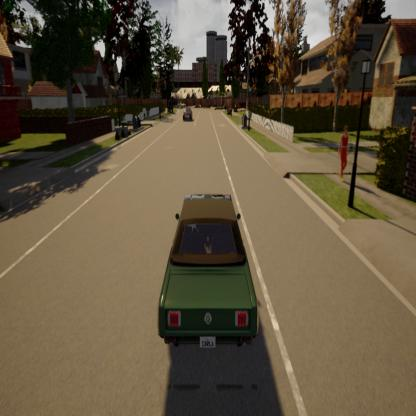Cars: (153, 161, 260, 387), (179, 93, 197, 136)
Pedestrian: (333, 121, 351, 180)
